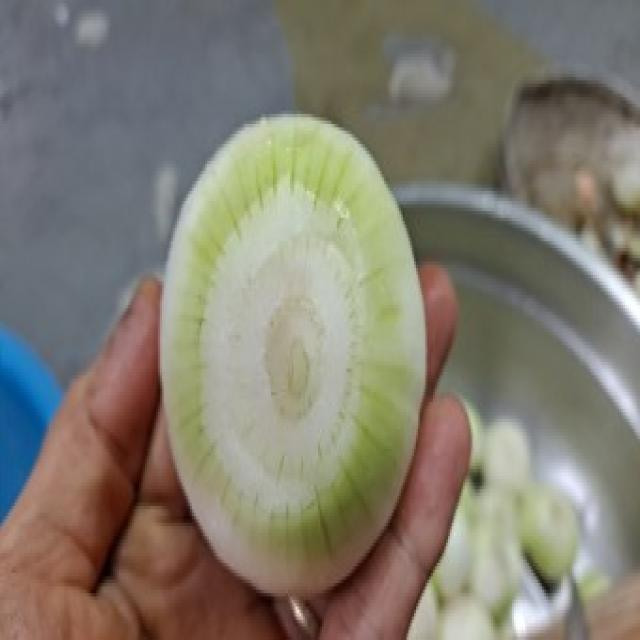onion: (152, 99, 436, 592)
